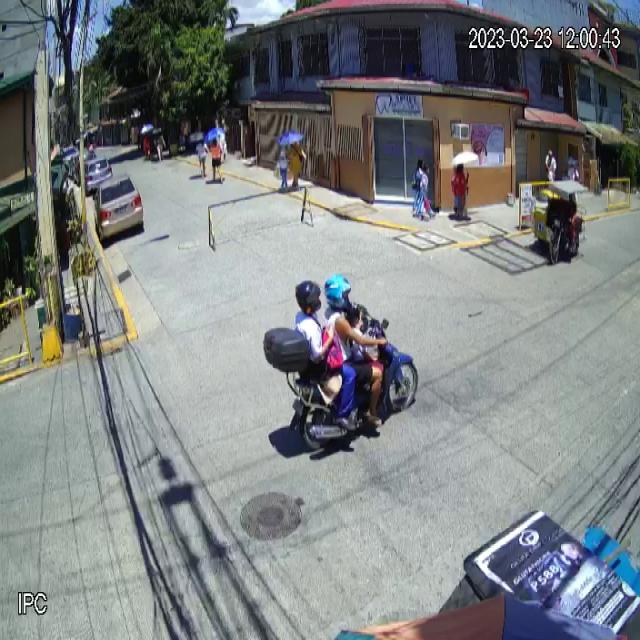Tricycle: (532, 179, 588, 267)
